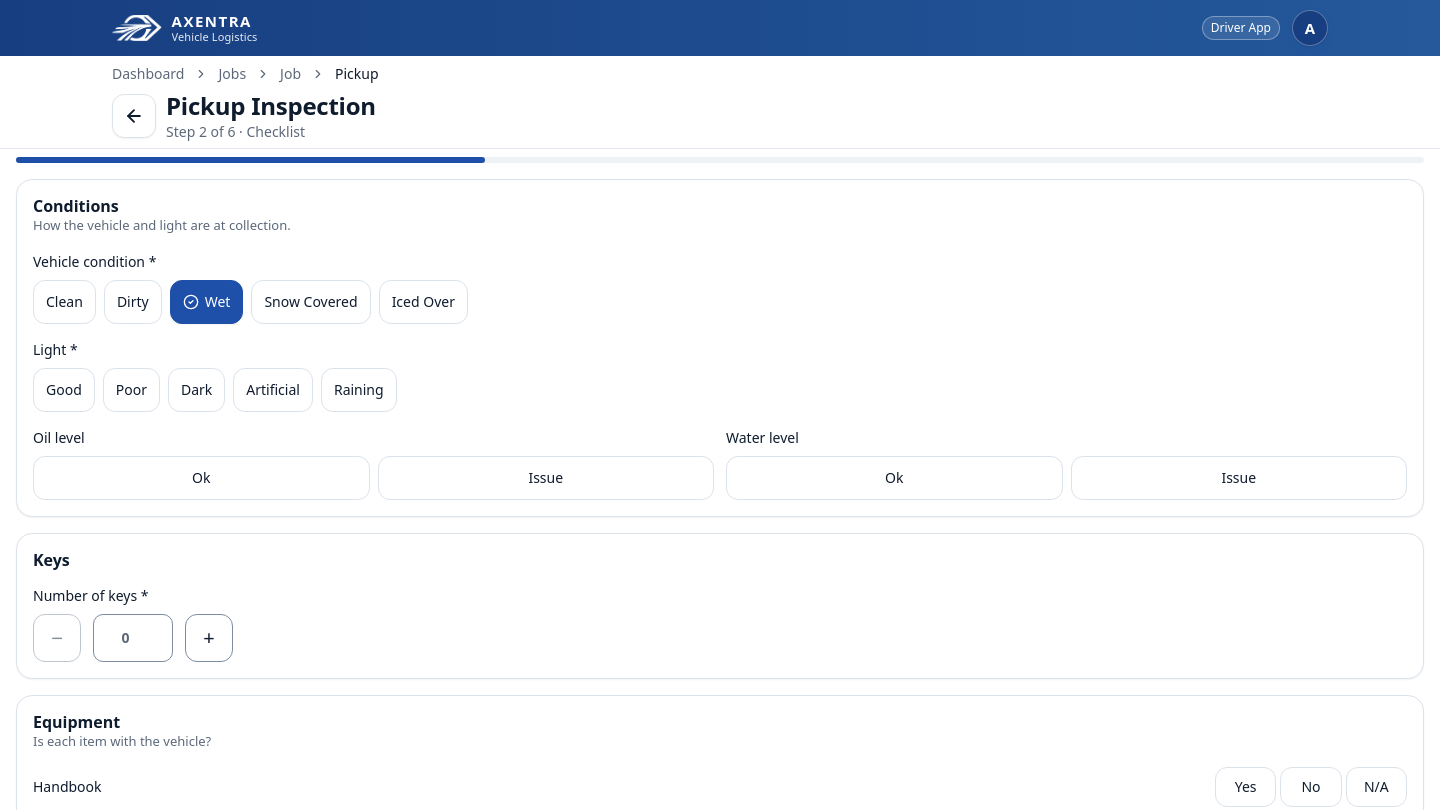
Checklist step › conditions, keys, equipment and wheels write their values
This screenshot has width=1440, height=810.
Earlier steps of the test are not shown.
Later steps or results of the test are not shown.
Click the radio button labelled "Dark".
click(197, 390)  # box [168,368,225,412]
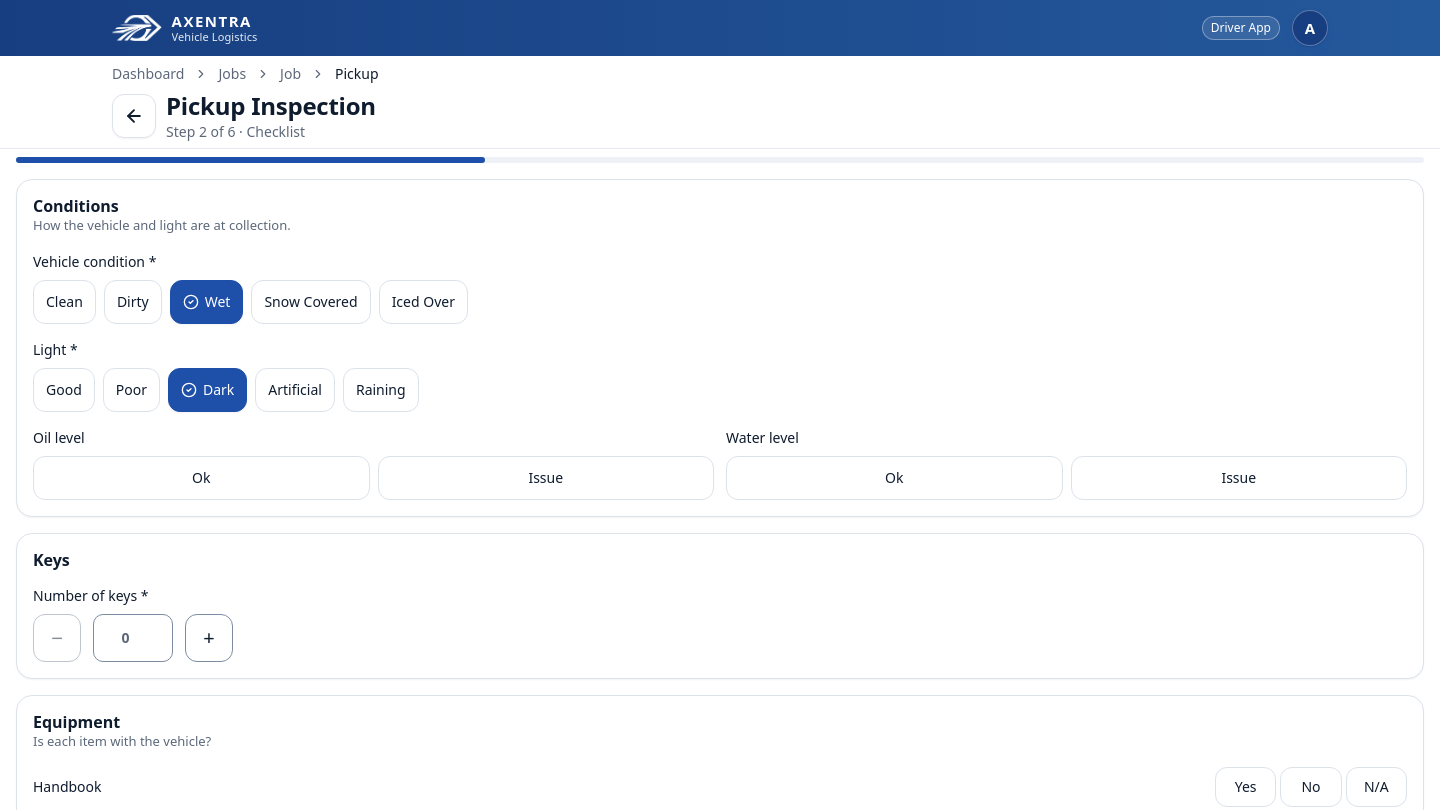
Click the 1st radio button labelled "Issue".
click(546, 478)  # box [378,456,714,500]
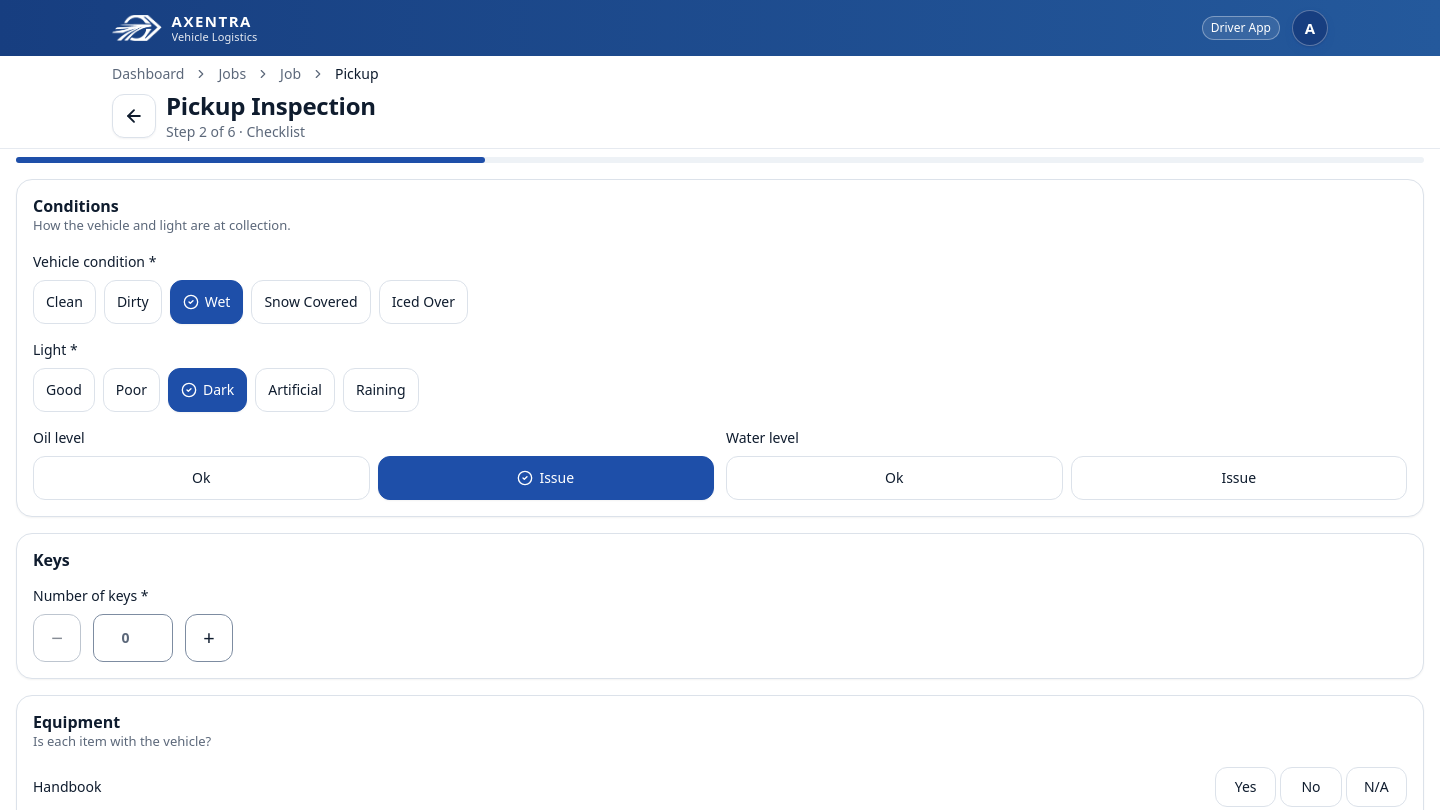
Click the radio button labelled "Ok" below "Water level".
click(894, 478)  # box [726,456,1062,500]
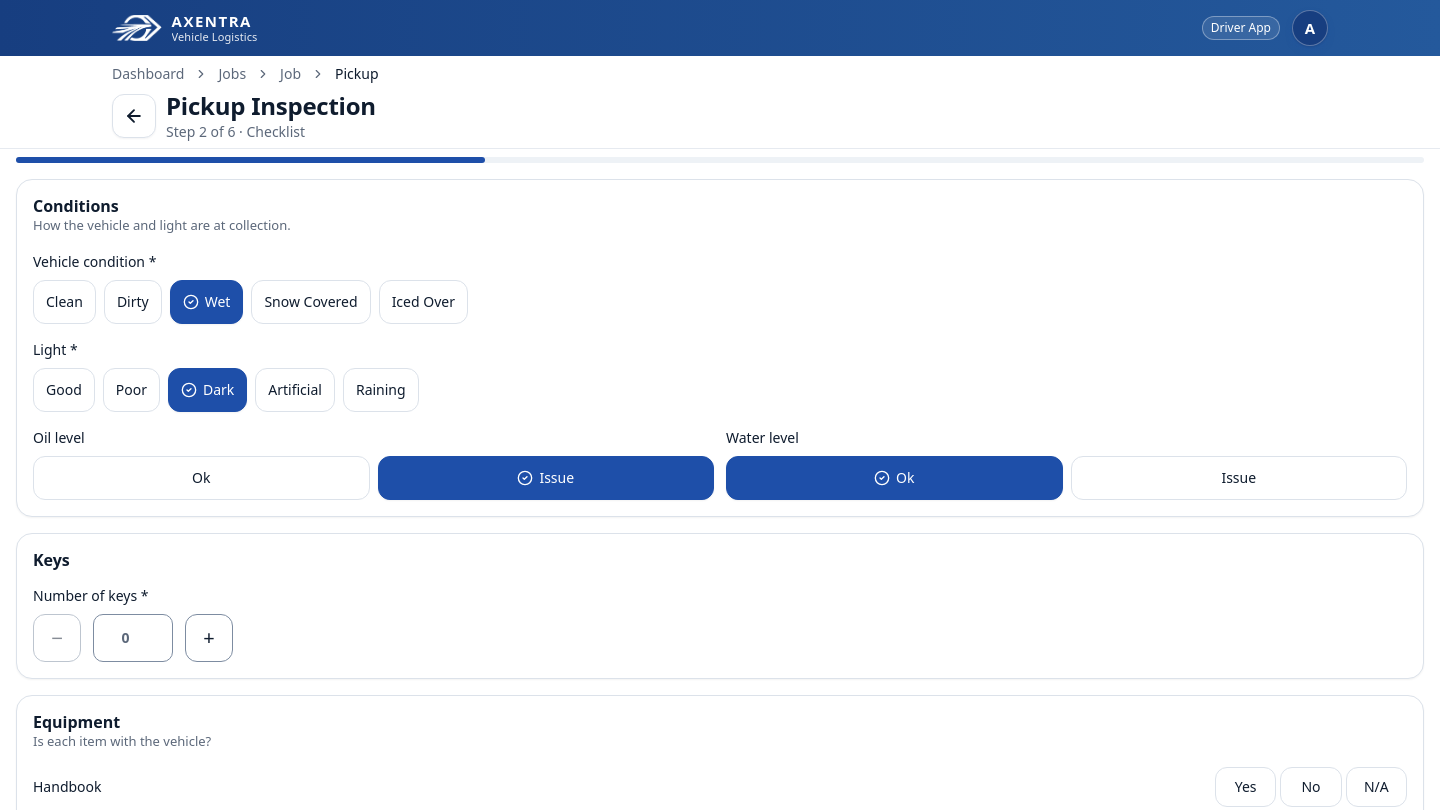
Expected: the button named "One fewer key" is disabled, [33,614,81,662]
Click the button named "One more key".
click(209, 638)  # box [185,614,233,662]
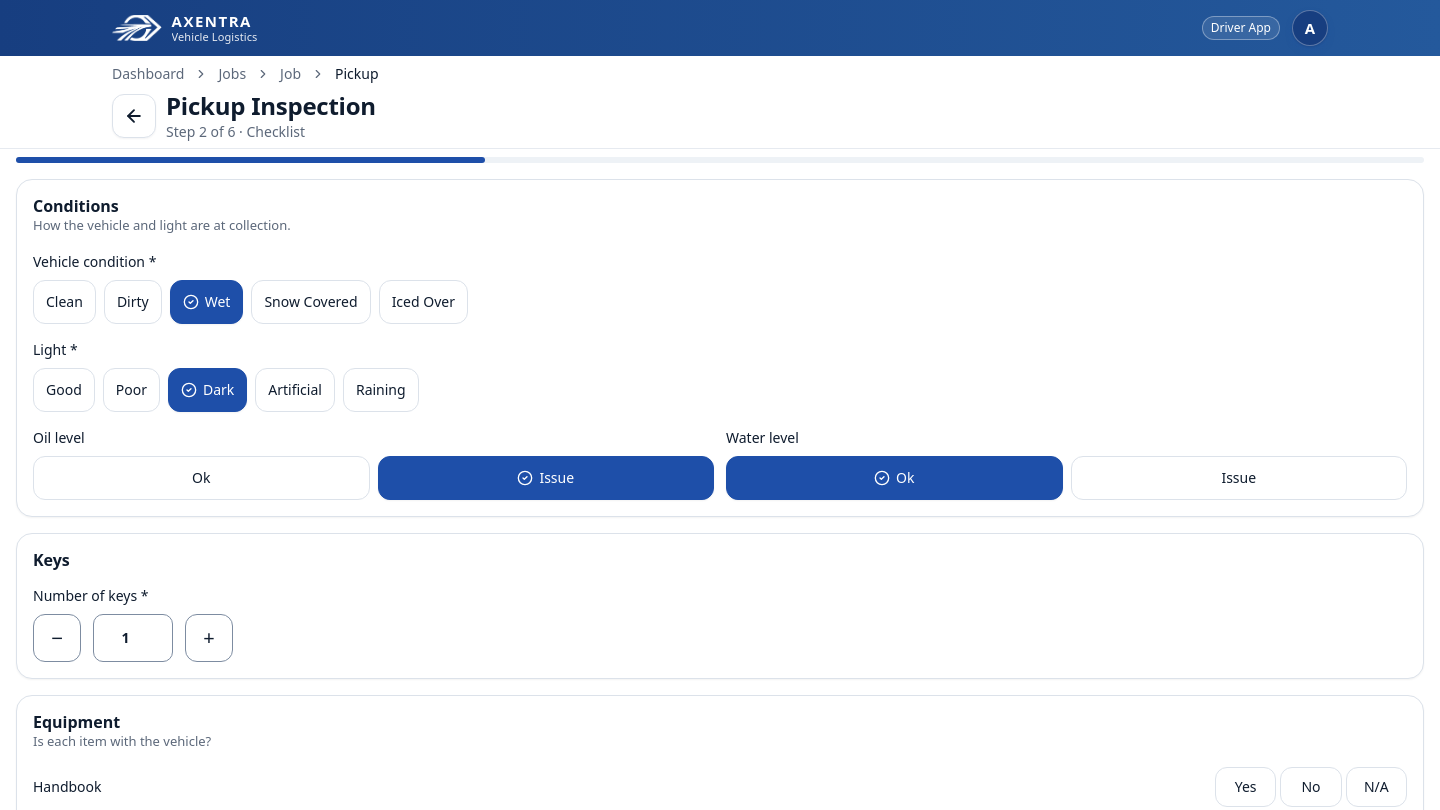
Click the button named "One more key".
click(209, 638)  # box [185,614,233,662]
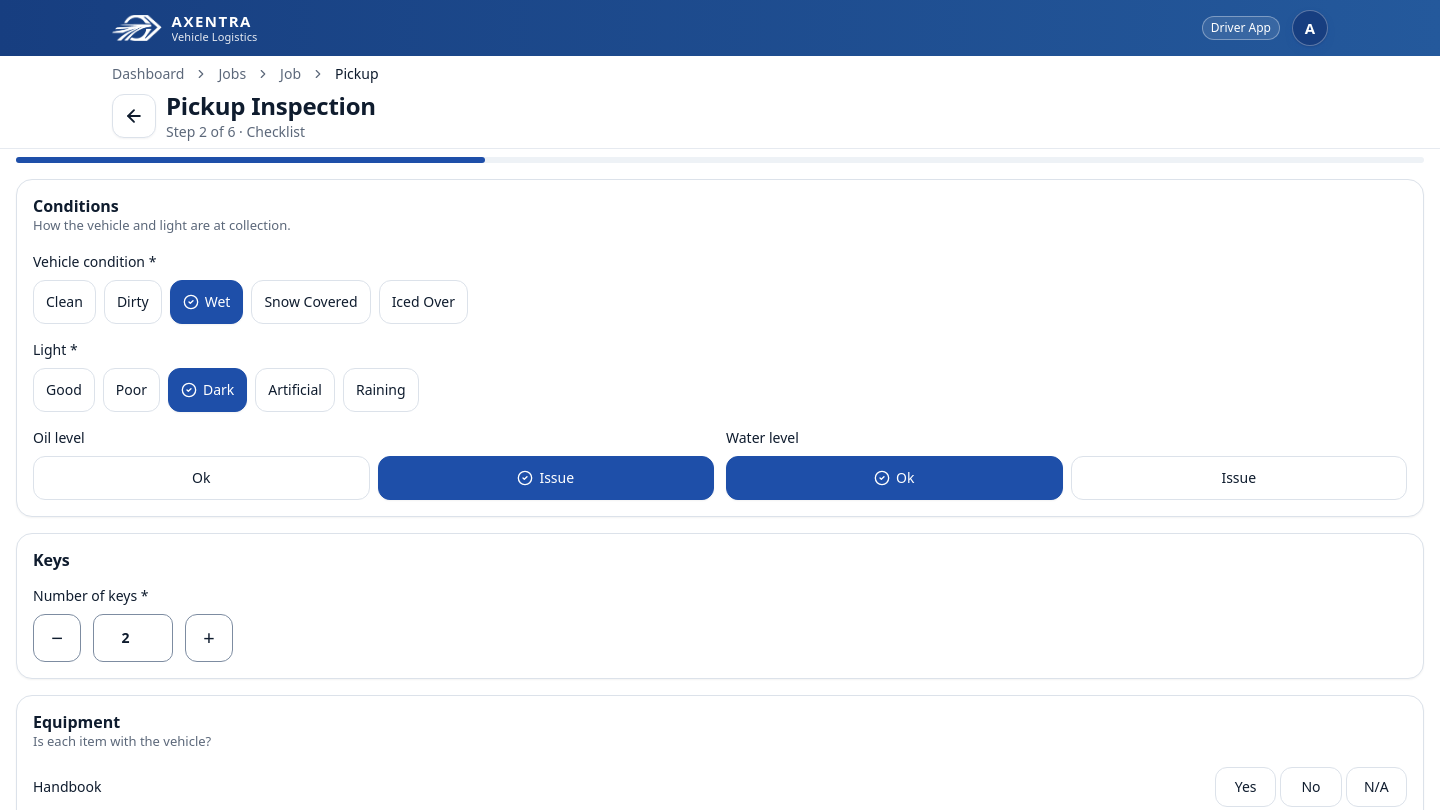
Expected: the number field labelled "Number of keys *" holds "2", [93,614,173,662]
Click the button named "One fewer key".
click(57, 638)  # box [33,614,81,662]
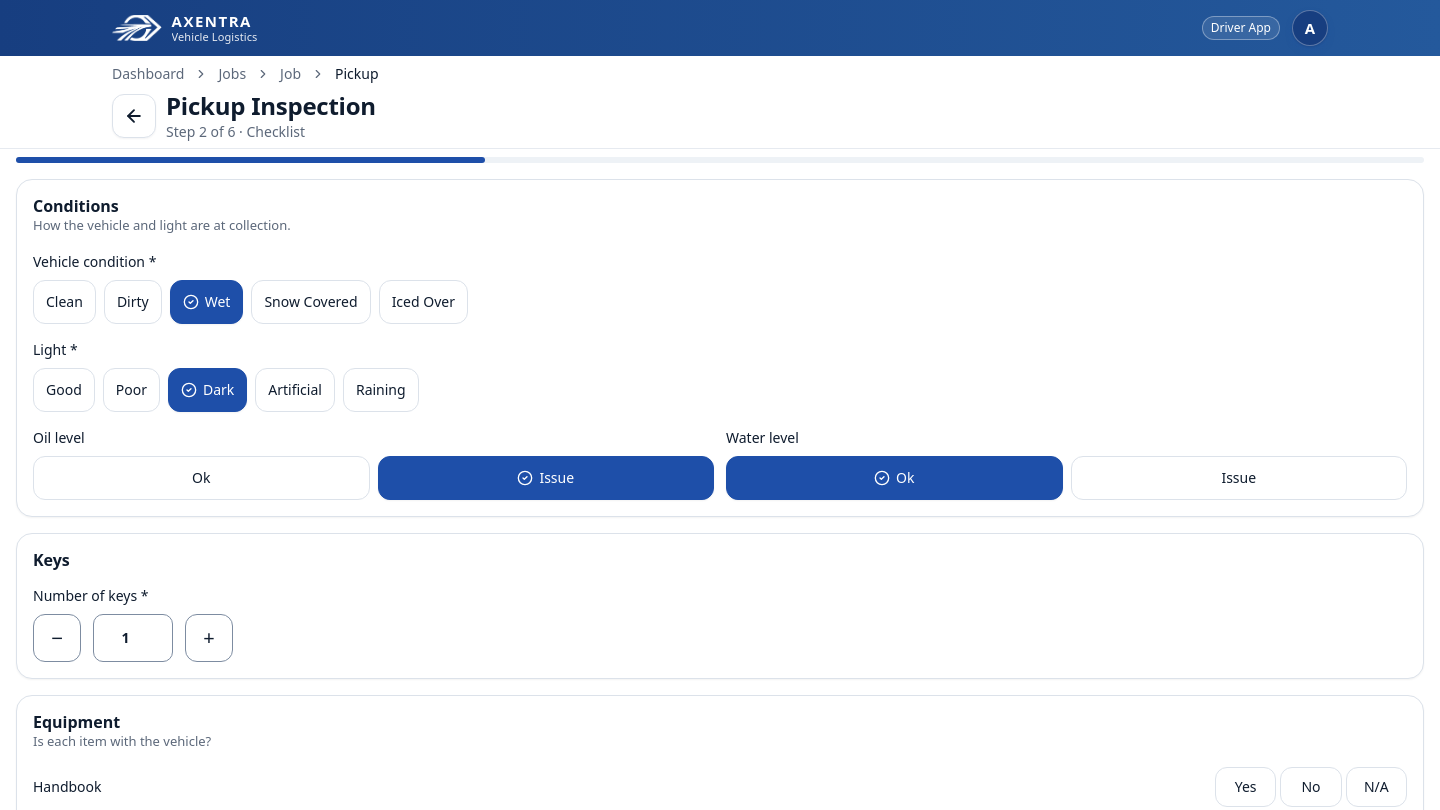
Expected: the number field labelled "Number of keys *" holds "1", [93,614,173,662]
